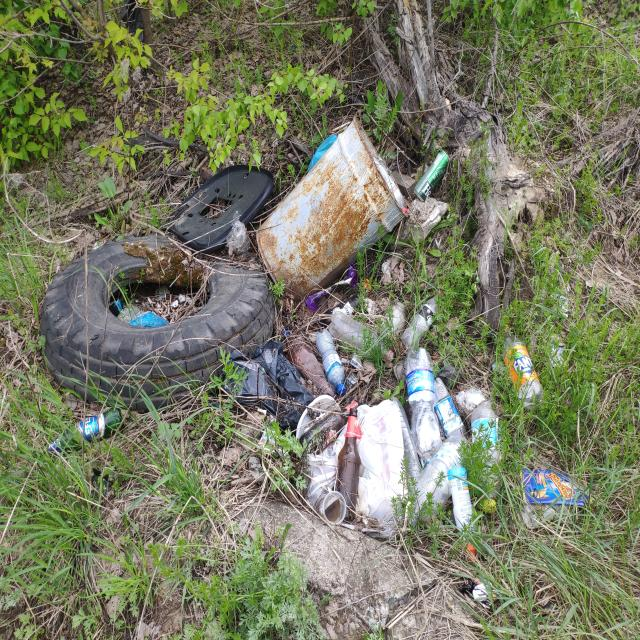entulho: (42, 232, 279, 394), (250, 116, 410, 304), (164, 164, 277, 250)
lixo domiciliar: (306, 399, 420, 542), (412, 418, 471, 528), (402, 340, 440, 454), (332, 306, 395, 361), (470, 406, 501, 514), (503, 335, 544, 414), (298, 397, 363, 446), (519, 463, 588, 509), (47, 409, 122, 451), (332, 408, 358, 527), (447, 464, 479, 560), (429, 382, 468, 458), (400, 291, 448, 348), (467, 547, 500, 616), (317, 330, 350, 390), (294, 395, 339, 439), (417, 149, 447, 204), (312, 489, 348, 519)
